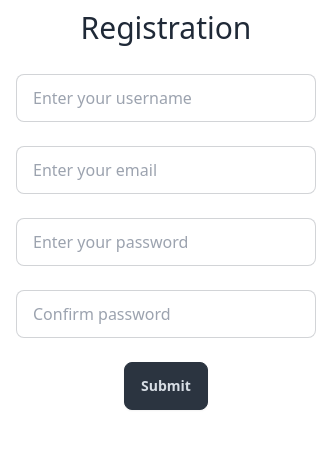
Test: Check if the input value satisfies the registration validation schema › checks if username value is invalid
The width and height of the screenshot is (333, 451).
Type "1#" into the field with id "username" at {"x": 166, "y": 98}, box 16,74 -> 316,122
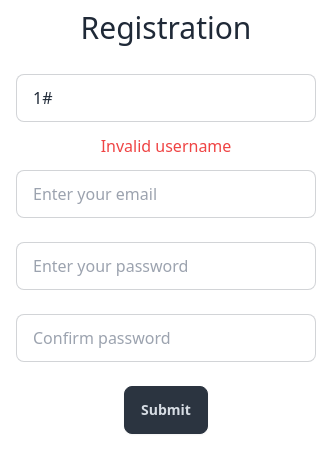
Check: the text with id "username-validation-error" reads "Invalid username", box 101,135 -> 231,157
